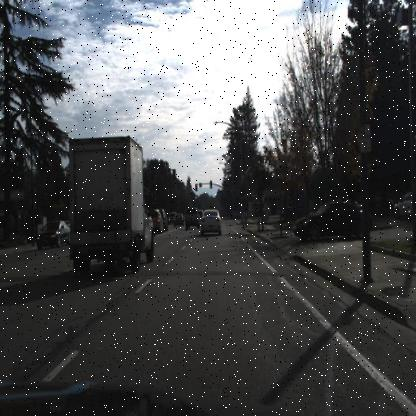car: (292, 198, 369, 240), (35, 217, 74, 244), (392, 192, 416, 222), (199, 207, 220, 236), (186, 206, 200, 229), (173, 211, 184, 228)
truck: (67, 133, 156, 278)
